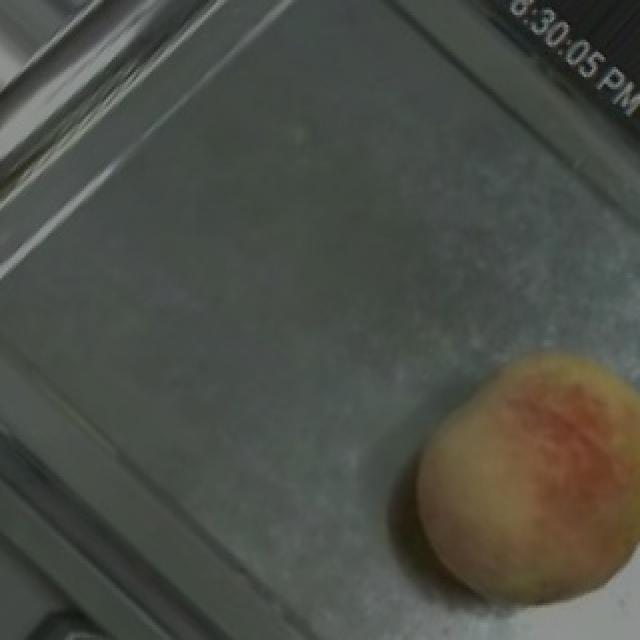Fruit: (376, 308, 640, 635)
